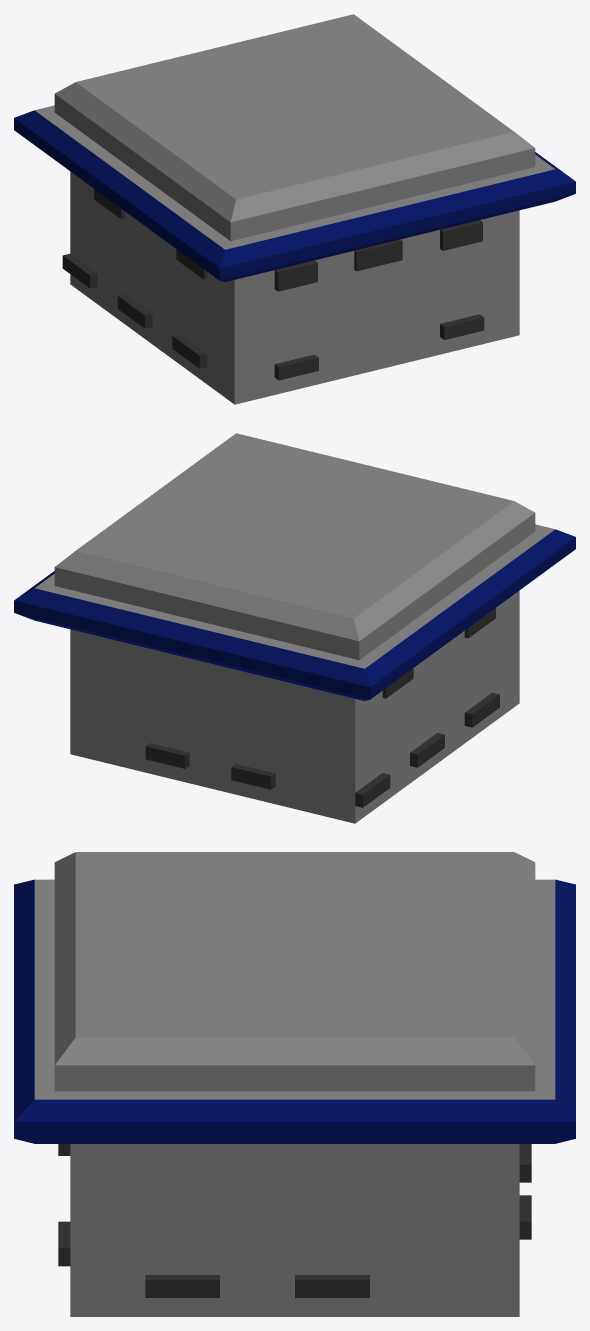
Rendered from SmallBuilding01.fbx.
The picture shows the model from 3 angles, top to bottom: view 1: azimuth 30°, elevation 25°; view 2: azimuth 150°, elevation 25°; view 3: azimuth 270°, elevation 25°; orthographic projection. The views are drawn at different scales.
Parts seen in each view (by area): view 1: Building01; view 2: Building01; view 3: Building01.
Part boxes in pixels (x1,y1,x2,y2): Building01: (14,14,575,404); Building01: (14,433,575,823); Building01: (14,852,575,1316).
Bounding box in the file's own units: 2427 × 1321 × 2427.
